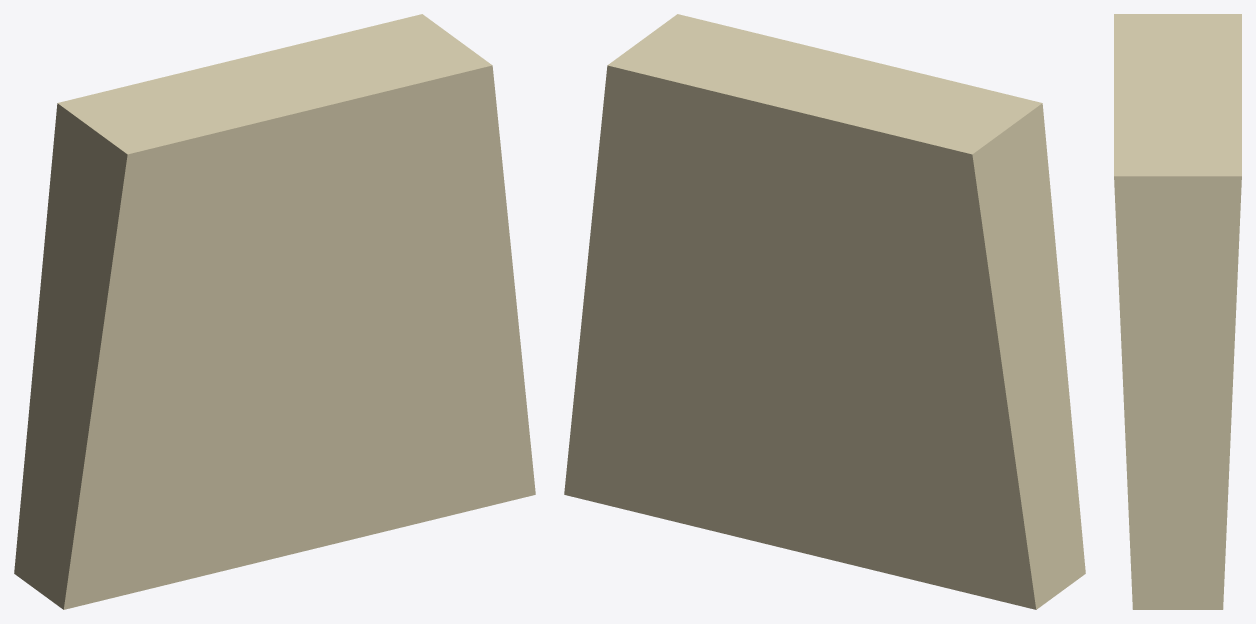
Rendered from Wall.fbx.
3 renders of one model, left to right at view 1: azimuth 30°, elevation 25°; view 2: azimuth 150°, elevation 25°; view 3: azimuth 270°, elevation 25°, orthographic. The views are drawn at different scales.
Visible parts, largest first — view 1: Wall; view 2: Wall; view 3: Wall.
Boxes of the visible parts, x1,y1,x2,y2 form: Wall: (14, 14, 535, 609); Wall: (564, 14, 1085, 609); Wall: (1114, 14, 1241, 609).
Size of the model in its own units: 110 by 100 by 28.35.
